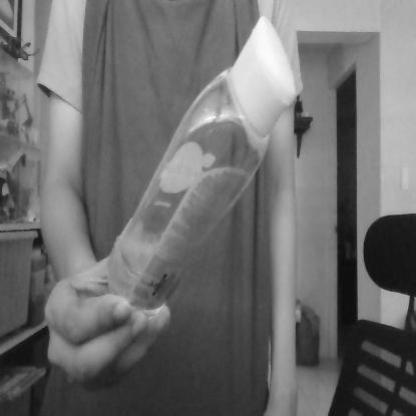Plastic Bottle: (108, 15, 304, 326)
